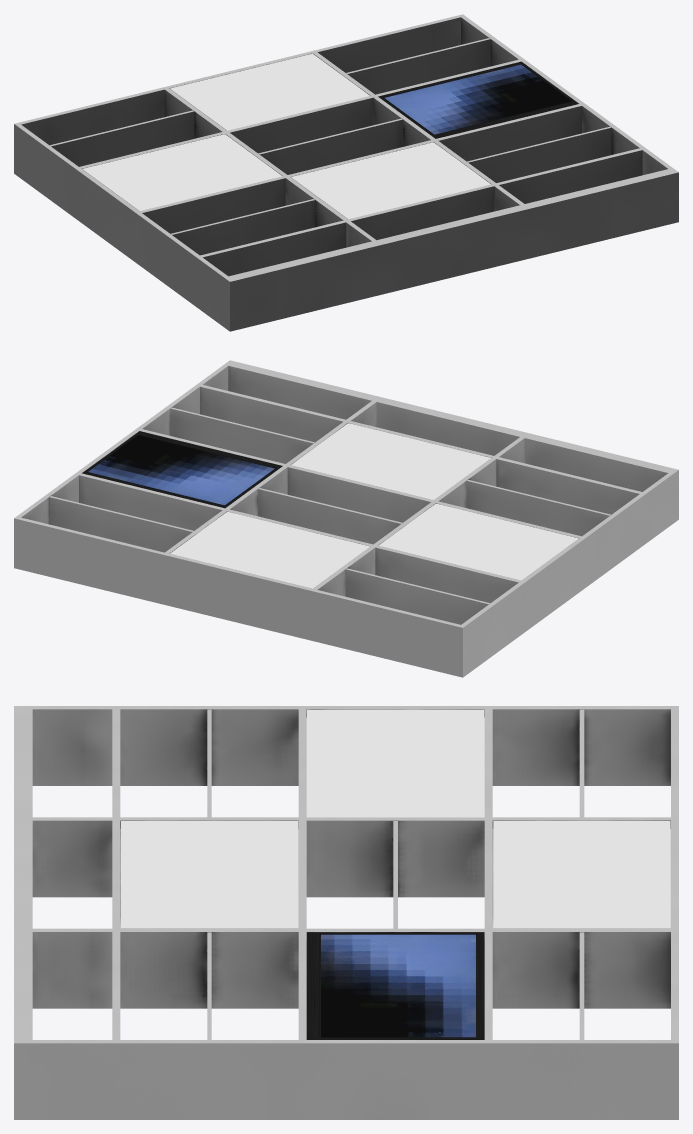
The model's file is shelf1.dae.
The picture shows the model from 3 angles, top to bottom: view 1: azimuth 30°, elevation 25°; view 2: azimuth 150°, elevation 25°; view 3: azimuth 270°, elevation 25°; orthographic projection. The views are drawn at different scales.
Parts seen in each view (by area): view 1: shelf; view 2: shelf; view 3: shelf.
Part boxes in pixels (<box>): shelf: <box>14,14,678,331</box>; shelf: <box>14,360,678,677</box>; shelf: <box>14,706,678,1119</box>.
Size of the model in its own units: 3 by 2.5 by 0.318.
3 materials, 2 textured.
